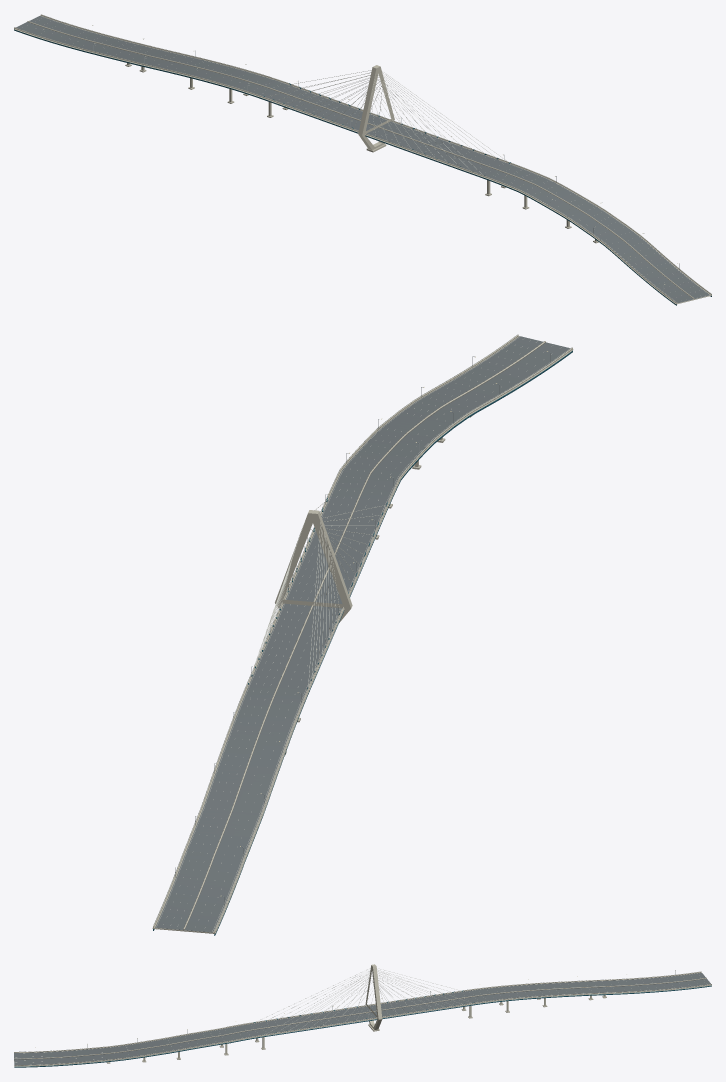
Rendered from christopher-s-bond-bridge-near.glb.
The picture shows the model from 3 angles, top to bottom: view 1: azimuth 30°, elevation 25°; view 2: azimuth 150°, elevation 25°; view 3: azimuth 270°, elevation 25°; orthographic projection. The views are drawn at different scales.
Parts seen in each view (by area): view 1: christopher-s-bond-bridge-0-asphalt, christopher-s-bond-bridge-1-asphalt, christopher-s-bond-bridge-2-asphalt, christopher-s-bond-bridge-1-concrete, christopher-s-bond-bridge-1-cable, christopher-s-bond-bridge-2-concrete, christopher-s-bond-bridge-0-concrete, christopher-s-bond-bridge-1-steel; view 2: christopher-s-bond-bridge-2-asphalt, christopher-s-bond-bridge-1-asphalt, christopher-s-bond-bridge-0-asphalt, christopher-s-bond-bridge-1-concrete, christopher-s-bond-bridge-2-concrete, christopher-s-bond-bridge-0-concrete, christopher-s-bond-bridge-1-cable; view 3: christopher-s-bond-bridge-0-asphalt, christopher-s-bond-bridge-1-asphalt, christopher-s-bond-bridge-2-asphalt, christopher-s-bond-bridge-1-concrete, christopher-s-bond-bridge-0-concrete, christopher-s-bond-bridge-1-cable, christopher-s-bond-bridge-2-concrete, christopher-s-bond-bridge-1-steel, christopher-s-bond-bridge-0-steel, christopher-s-bond-bridge-2-steel, christopher-s-bond-bridge-0-rail.
Part boxes in pixels (bbox=[...]): christopher-s-bond-bridge-0-asphalt: bbox=[494, 167, 710, 303]; christopher-s-bond-bridge-1-asphalt: bbox=[254, 81, 517, 178]; christopher-s-bond-bridge-2-asphalt: bbox=[16, 15, 277, 92]; christopher-s-bond-bridge-1-concrete: bbox=[252, 65, 518, 196]; christopher-s-bond-bridge-1-cable: bbox=[265, 70, 508, 174]; christopher-s-bond-bridge-2-concrete: bbox=[14, 14, 278, 103]; christopher-s-bond-bridge-0-concrete: bbox=[492, 165, 711, 304]; christopher-s-bond-bridge-1-steel: bbox=[252, 83, 510, 181]; christopher-s-bond-bridge-2-asphalt: bbox=[155, 695, 302, 932]; christopher-s-bond-bridge-1-asphalt: bbox=[245, 494, 388, 699]; christopher-s-bond-bridge-0-asphalt: bbox=[331, 336, 570, 498]; christopher-s-bond-bridge-1-concrete: bbox=[243, 493, 391, 722]; christopher-s-bond-bridge-2-concrete: bbox=[152, 693, 305, 933]; christopher-s-bond-bridge-0-concrete: bbox=[329, 334, 573, 508]; christopher-s-bond-bridge-1-cable: bbox=[248, 500, 386, 687]; christopher-s-bond-bridge-0-asphalt: bbox=[14, 1024, 256, 1065]; christopher-s-bond-bridge-1-asphalt: bbox=[247, 990, 482, 1035]; christopher-s-bond-bridge-2-asphalt: bbox=[474, 972, 710, 1001]; christopher-s-bond-bridge-1-concrete: bbox=[246, 964, 484, 1049]; christopher-s-bond-bridge-0-concrete: bbox=[14, 1023, 256, 1066]; christopher-s-bond-bridge-1-cable: bbox=[255, 968, 471, 1033]; christopher-s-bond-bridge-2-concrete: bbox=[473, 971, 711, 1012]; christopher-s-bond-bridge-1-steel: bbox=[253, 990, 484, 1038]; christopher-s-bond-bridge-0-steel: bbox=[14, 1037, 256, 1067]; christopher-s-bond-bridge-2-steel: bbox=[484, 985, 711, 1003]; christopher-s-bond-bridge-0-rail: bbox=[14, 1023, 256, 1065].
Size of the model in its own units: 309 by 98.27 by 969.
